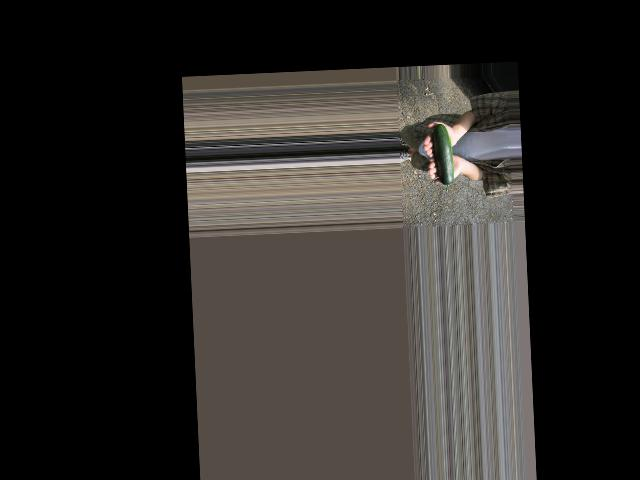cucumber: (432, 124, 454, 193)
